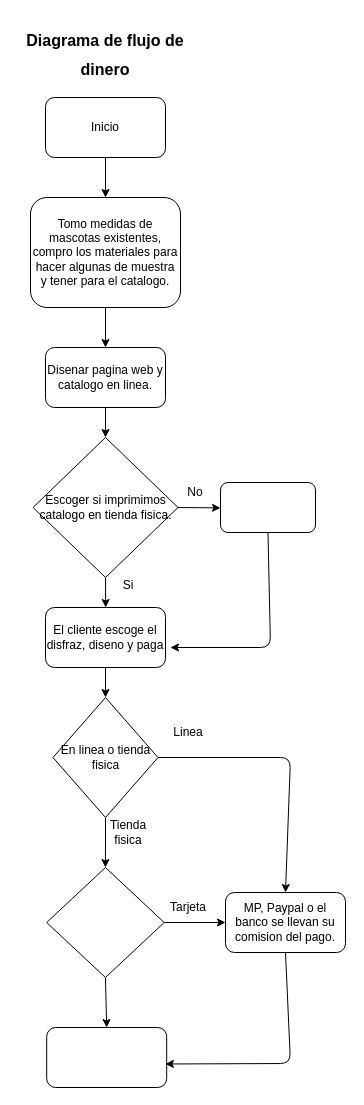
The diagram is 364 pixels wide and 1105 high, and some of its shapes have lost their labels. Each missing label, with the centre of its shape:
"Pago en enfectivo o tarjeta" belongs at pixel 105 922.
"Se envia o entrega el producto al cliente." belongs at pixel 106 1057.
"Se evita gasto extra" belongs at pixel 268 507.
